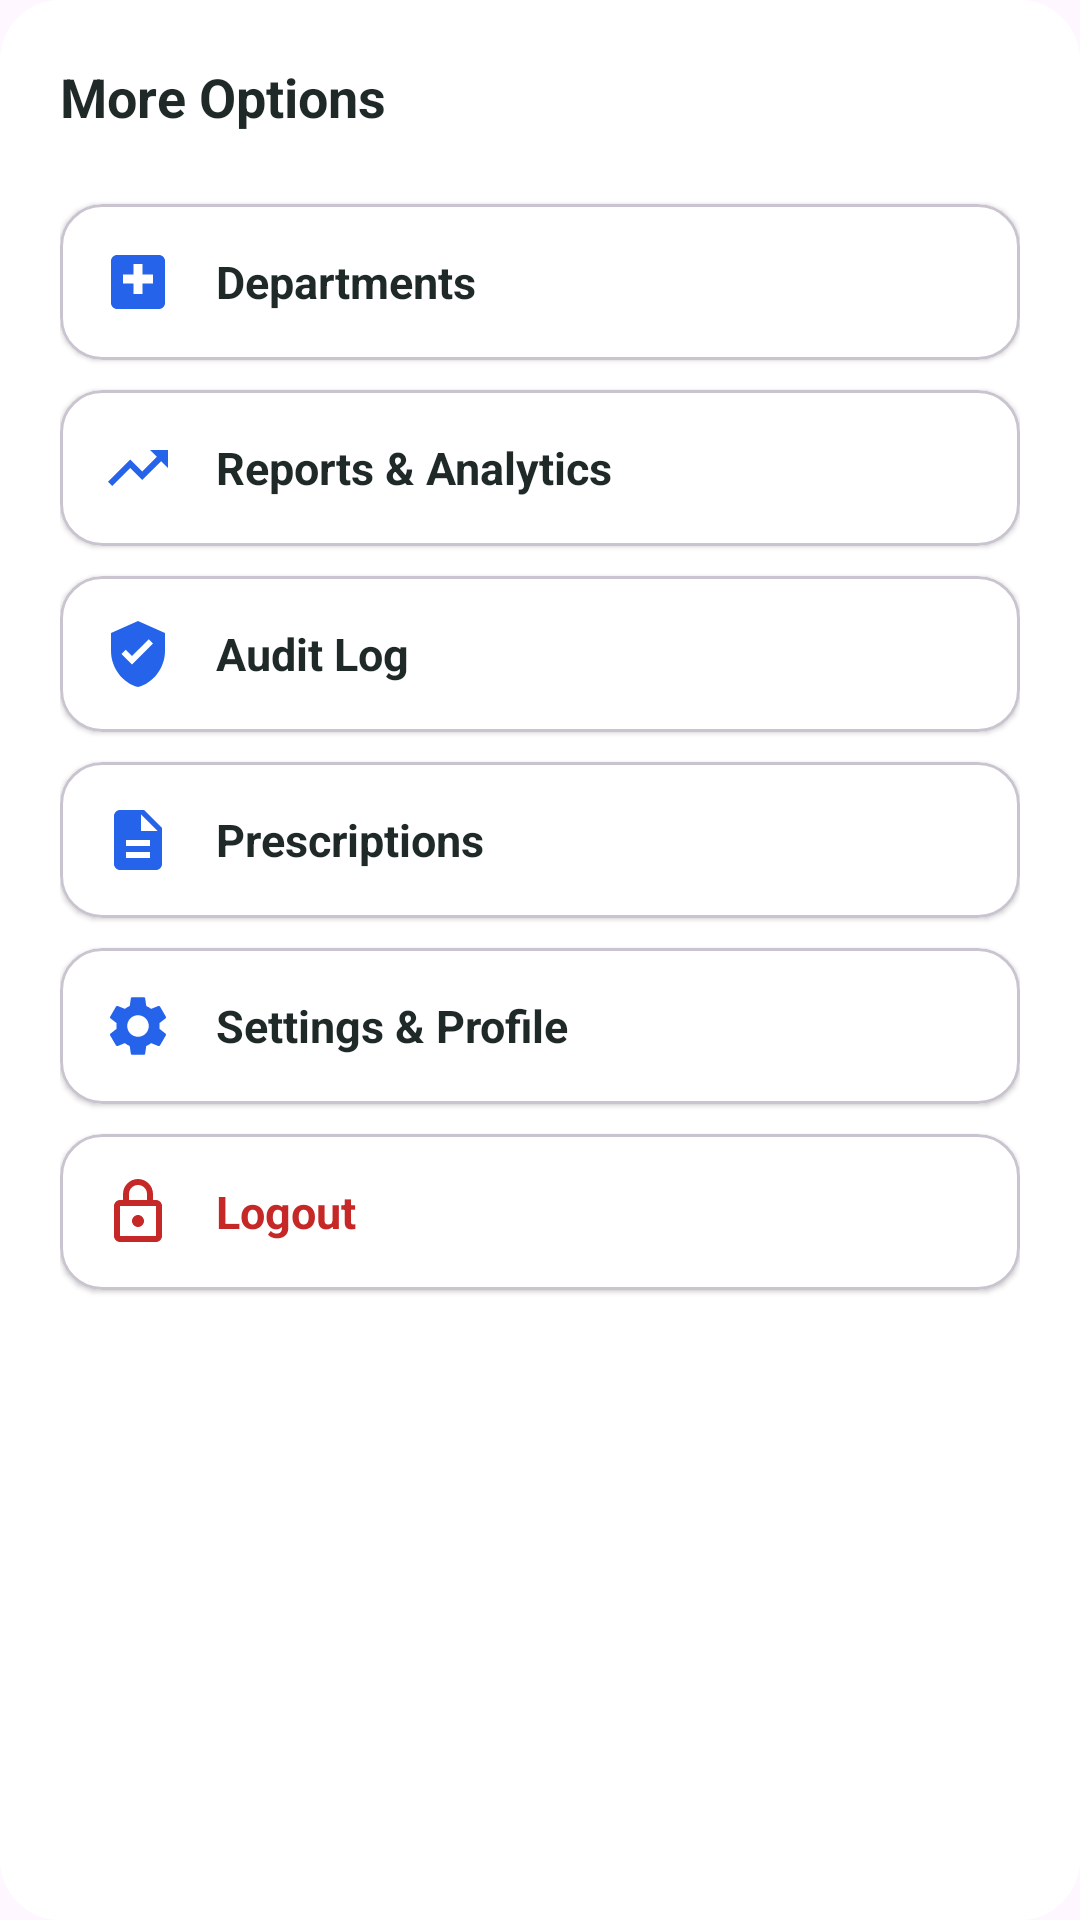

Icons on this 1080px×1920px Android screen, each with the point to tap as point (x, y):
more audit: point (138, 654)
more reports: point (138, 468)
more settings: point (138, 1026)
